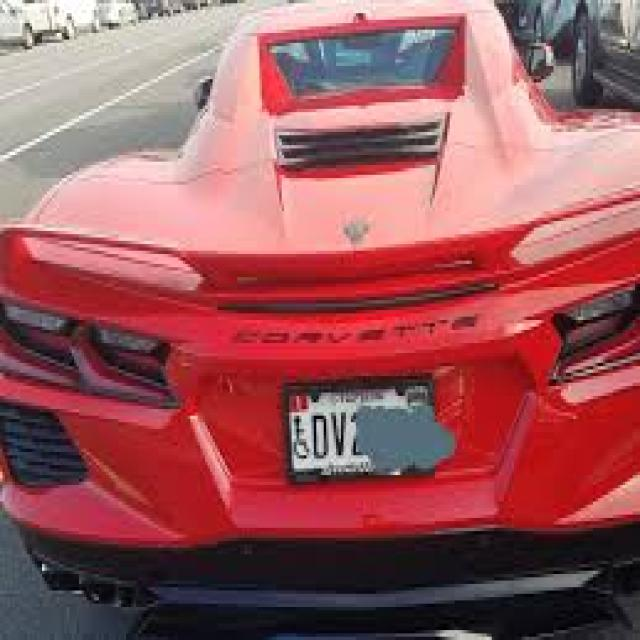car-handicap-placard: (292, 416, 311, 459)
